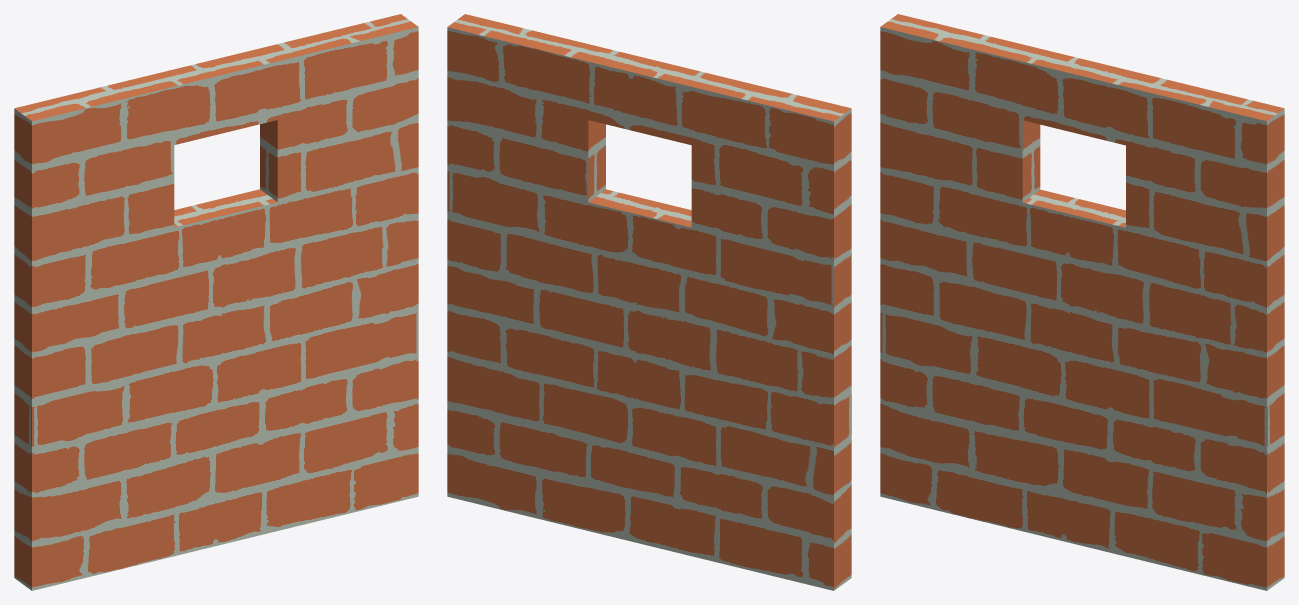
File: Brick_Wall_04.fbx
The picture shows the model from 3 angles, left to right: view 1: azimuth 30°, elevation 25°; view 2: azimuth 150°, elevation 25°; view 3: azimuth 330°, elevation 25°; orthographic projection.
Parts seen in each view (by area): view 1: Brick_Wall_04; view 2: Brick_Wall_04; view 3: Brick_Wall_04.
Part boxes in pixels (x1=…): Brick_Wall_04: x1=14, y1=14, x2=418, y2=590; Brick_Wall_04: x1=447, y1=14, x2=851, y2=590; Brick_Wall_04: x1=880, y1=14, x2=1284, y2=590.
Size of the model in its own units: 250 by 290 by 20.
